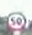limite 30: (4, 10, 29, 31)
